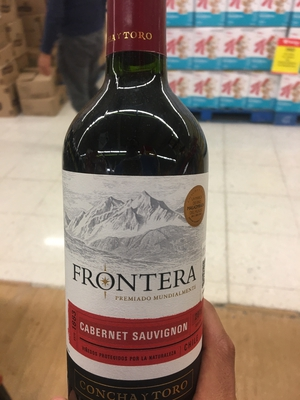frontera cabernet sauvignon: (62, 7, 223, 400)
